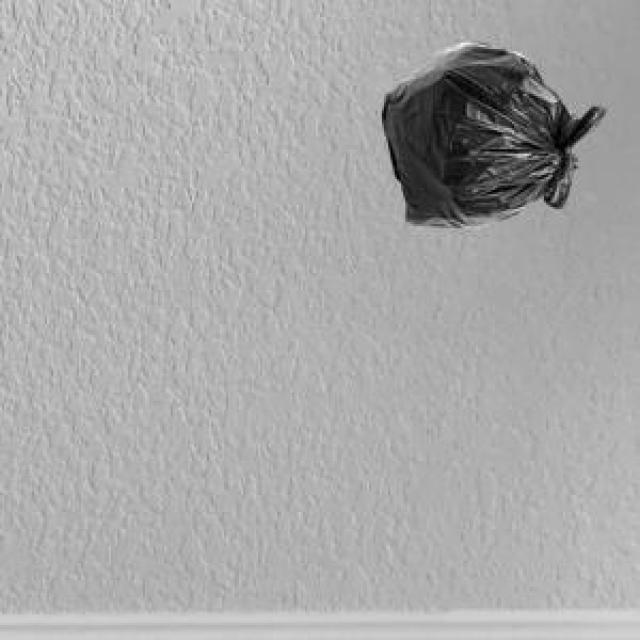miscellaneous trash: (378, 38, 602, 224)
